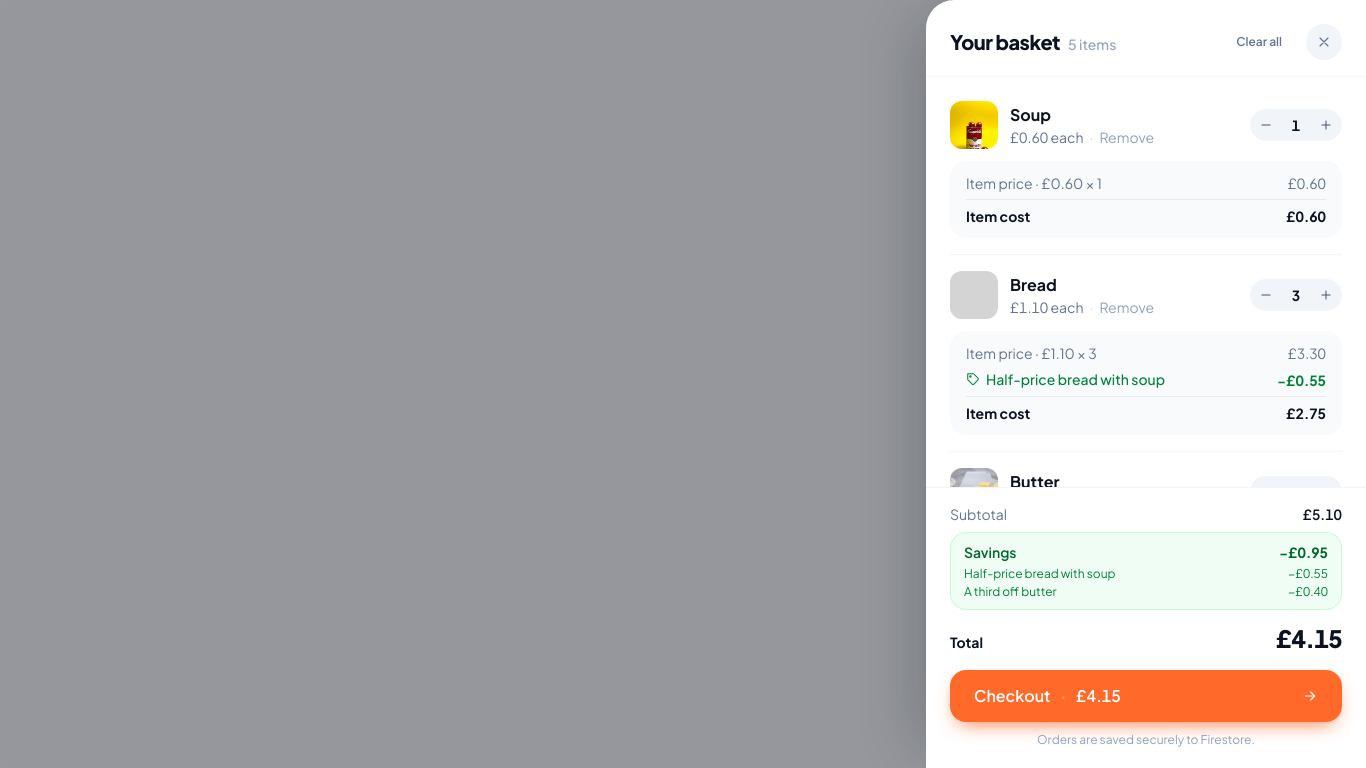
Scenario: <BasketDrawer /> › removes a line and clears the basket
Click the button with aria-label "Remove Soup from basket": x=1127, y=137 1100,127 -> 1154,147
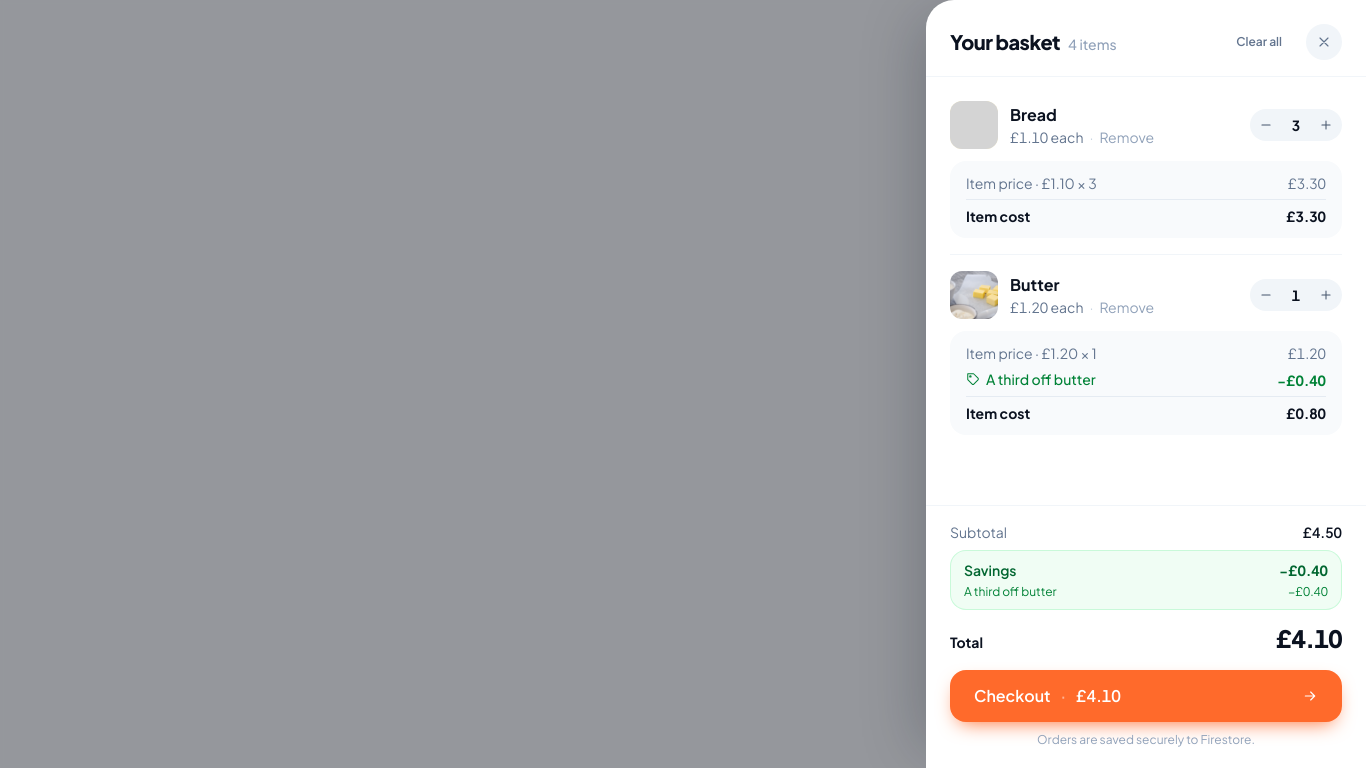
Expected: the text "Soup" is gone
Expected: the text "Half-price bread with soup" is gone
Click the button "Clear all": x=1259, y=42 1224,26 -> 1294,58
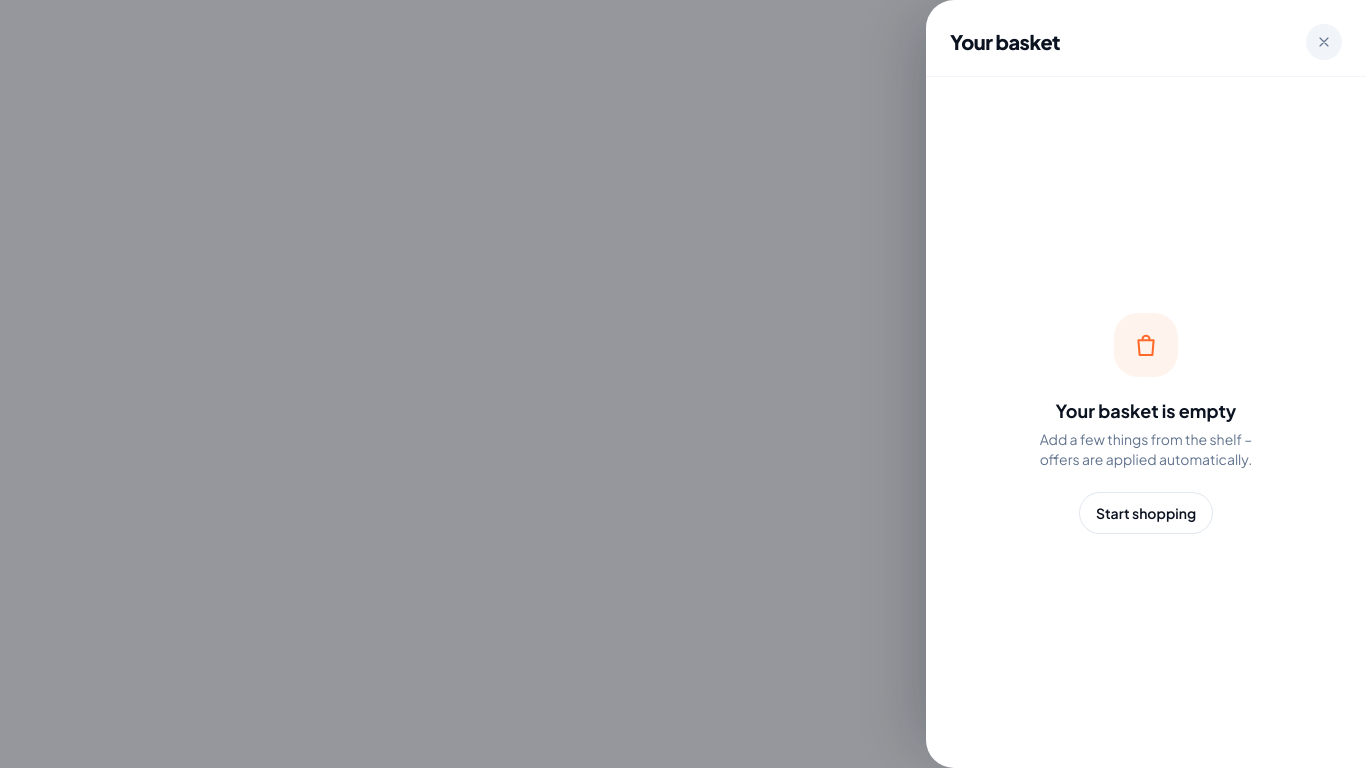
Expected: the text "Your basket is empty" is shown, 1056,396 -> 1236,424
